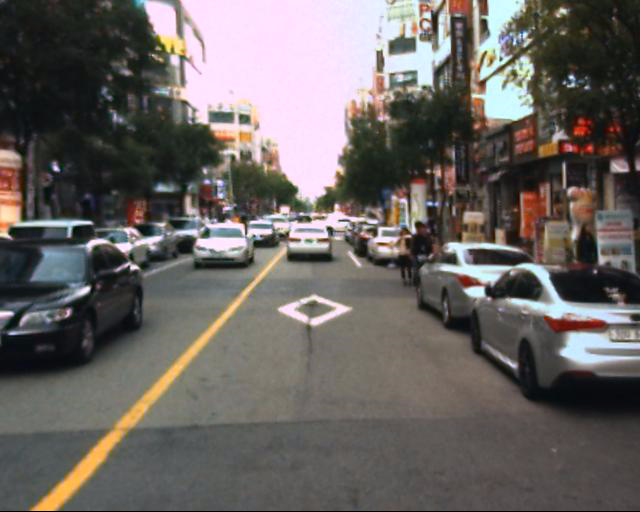person: (568, 219, 603, 298), (405, 219, 438, 293), (391, 223, 414, 291)
